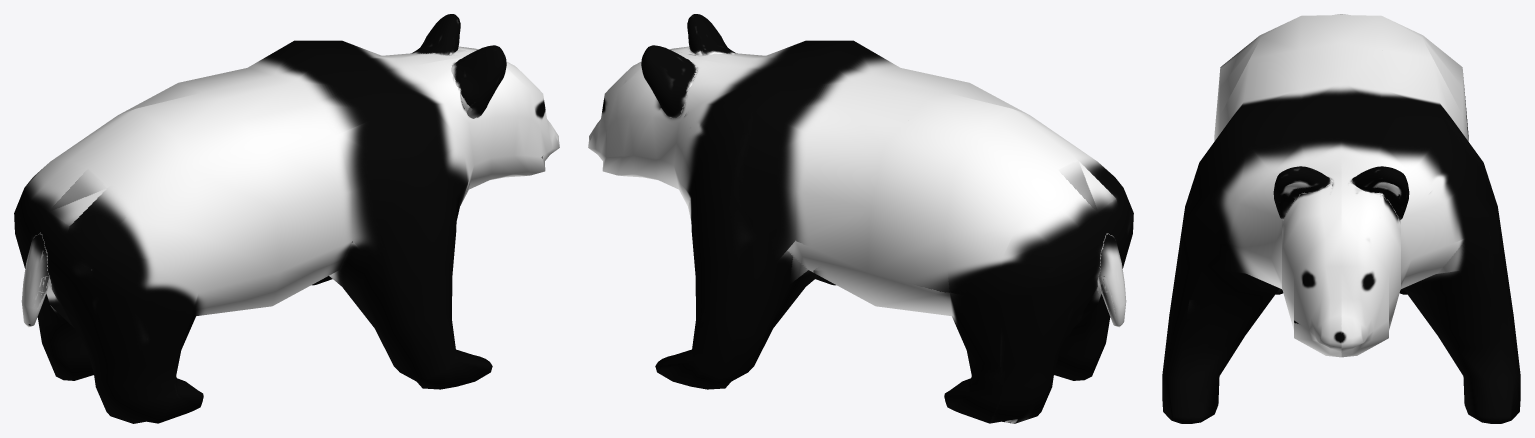
Rendered from panda.obj.
3 views of the same model, side by side, from view 1: azimuth 30°, elevation 25°; view 2: azimuth 150°, elevation 25°; view 3: azimuth 270°, elevation 25° (orthographic). The views are drawn at different scales.
Parts seen in each view (by area): view 1: Body; view 2: Body; view 3: Body.
Part boxes in pixels (left/top/right/bottom): Body: left=14, top=14, right=559, bottom=423; Body: left=588, top=14, right=1133, bottom=423; Body: left=1162, top=14, right=1520, bottom=423.
Bounding box in the file's own units: 5.32 × 2.61 × 2.91.
